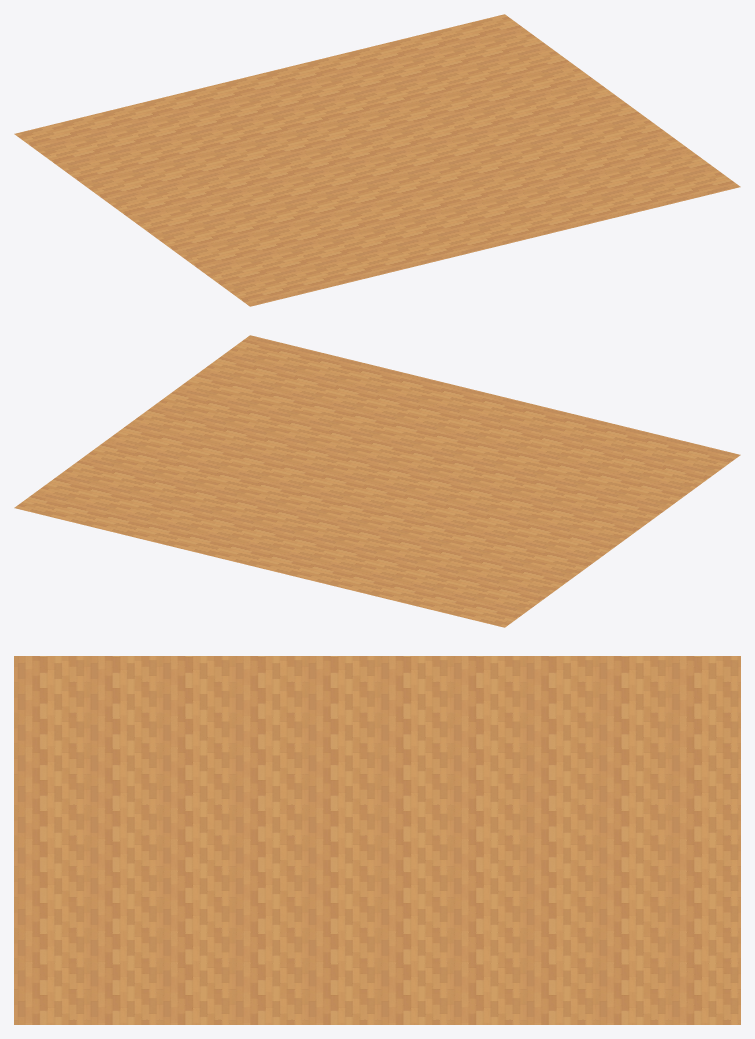
Rendered from ground.fbx.
3 renders of one model, top to bottom at view 1: azimuth 30°, elevation 25°; view 2: azimuth 150°, elevation 25°; view 3: azimuth 270°, elevation 25°, orthographic. The views are drawn at different scales.
Parts seen in each view (by area): view 1: Ground; view 2: Ground; view 3: Ground.
Part boxes in pixels (x1,y1,x2,y2): Ground: (14,14,740,306); Ground: (14,335,740,627); Ground: (14,656,740,1024).
Bounding box in the file's own units: 12000 × 0 × 10000.
1 material, 1 textured.
